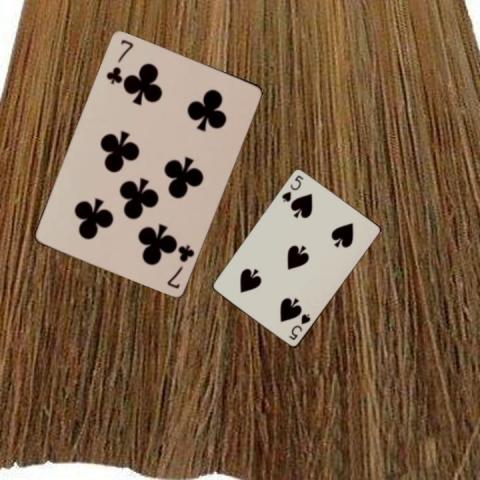5s: (278, 172, 304, 203), (286, 311, 312, 341)
7c: (163, 241, 196, 290), (103, 36, 134, 85)
